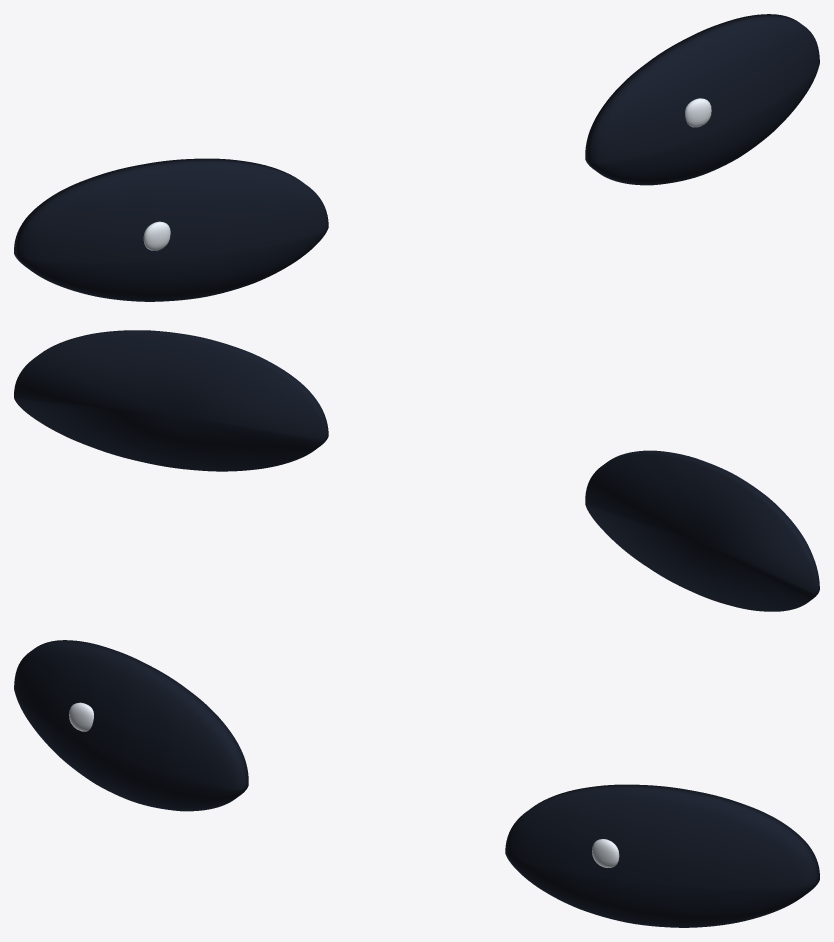
File: Feminine-eyes-lowarc.glb
3 views of the same model, one above another, from view 1: azimuth 30°, elevation 25°; view 2: azimuth 150°, elevation 25°; view 3: azimuth 330°, elevation 25° (orthographic).
Parts seen in each view (by area): view 1: Eye / lowarc -1, Eye / lowarc 1, Eye highlight / lowarc -1, Eye highlight / lowarc 1; view 2: Eye / lowarc 1, Eye / lowarc -1; view 3: Eye / lowarc 1, Eye / lowarc -1, Eye highlight / lowarc 1, Eye highlight / lowarc -1.
Boxes of the visible parts, x1,y1,x2,y2 form: Eye / lowarc -1: [14, 158, 328, 301]; Eye / lowarc 1: [585, 14, 819, 185]; Eye highlight / lowarc -1: [143, 221, 170, 250]; Eye highlight / lowarc 1: [685, 98, 711, 127]; Eye / lowarc 1: [14, 330, 328, 471]; Eye / lowarc -1: [585, 450, 819, 611]; Eye / lowarc 1: [505, 784, 819, 927]; Eye / lowarc -1: [14, 640, 248, 811]; Eye highlight / lowarc 1: [592, 839, 619, 867]; Eye highlight / lowarc -1: [69, 702, 93, 731].
Bounding box in the file's own units: 0.452 × 0.072 × 0.0512.
